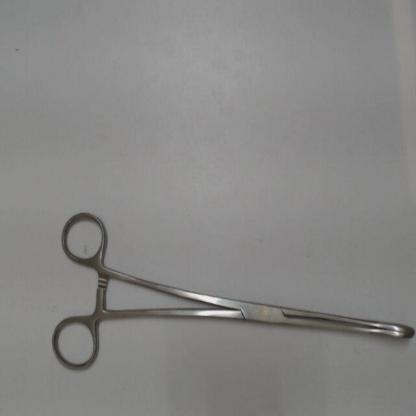Sponge Forceps: (47, 207, 415, 382)
